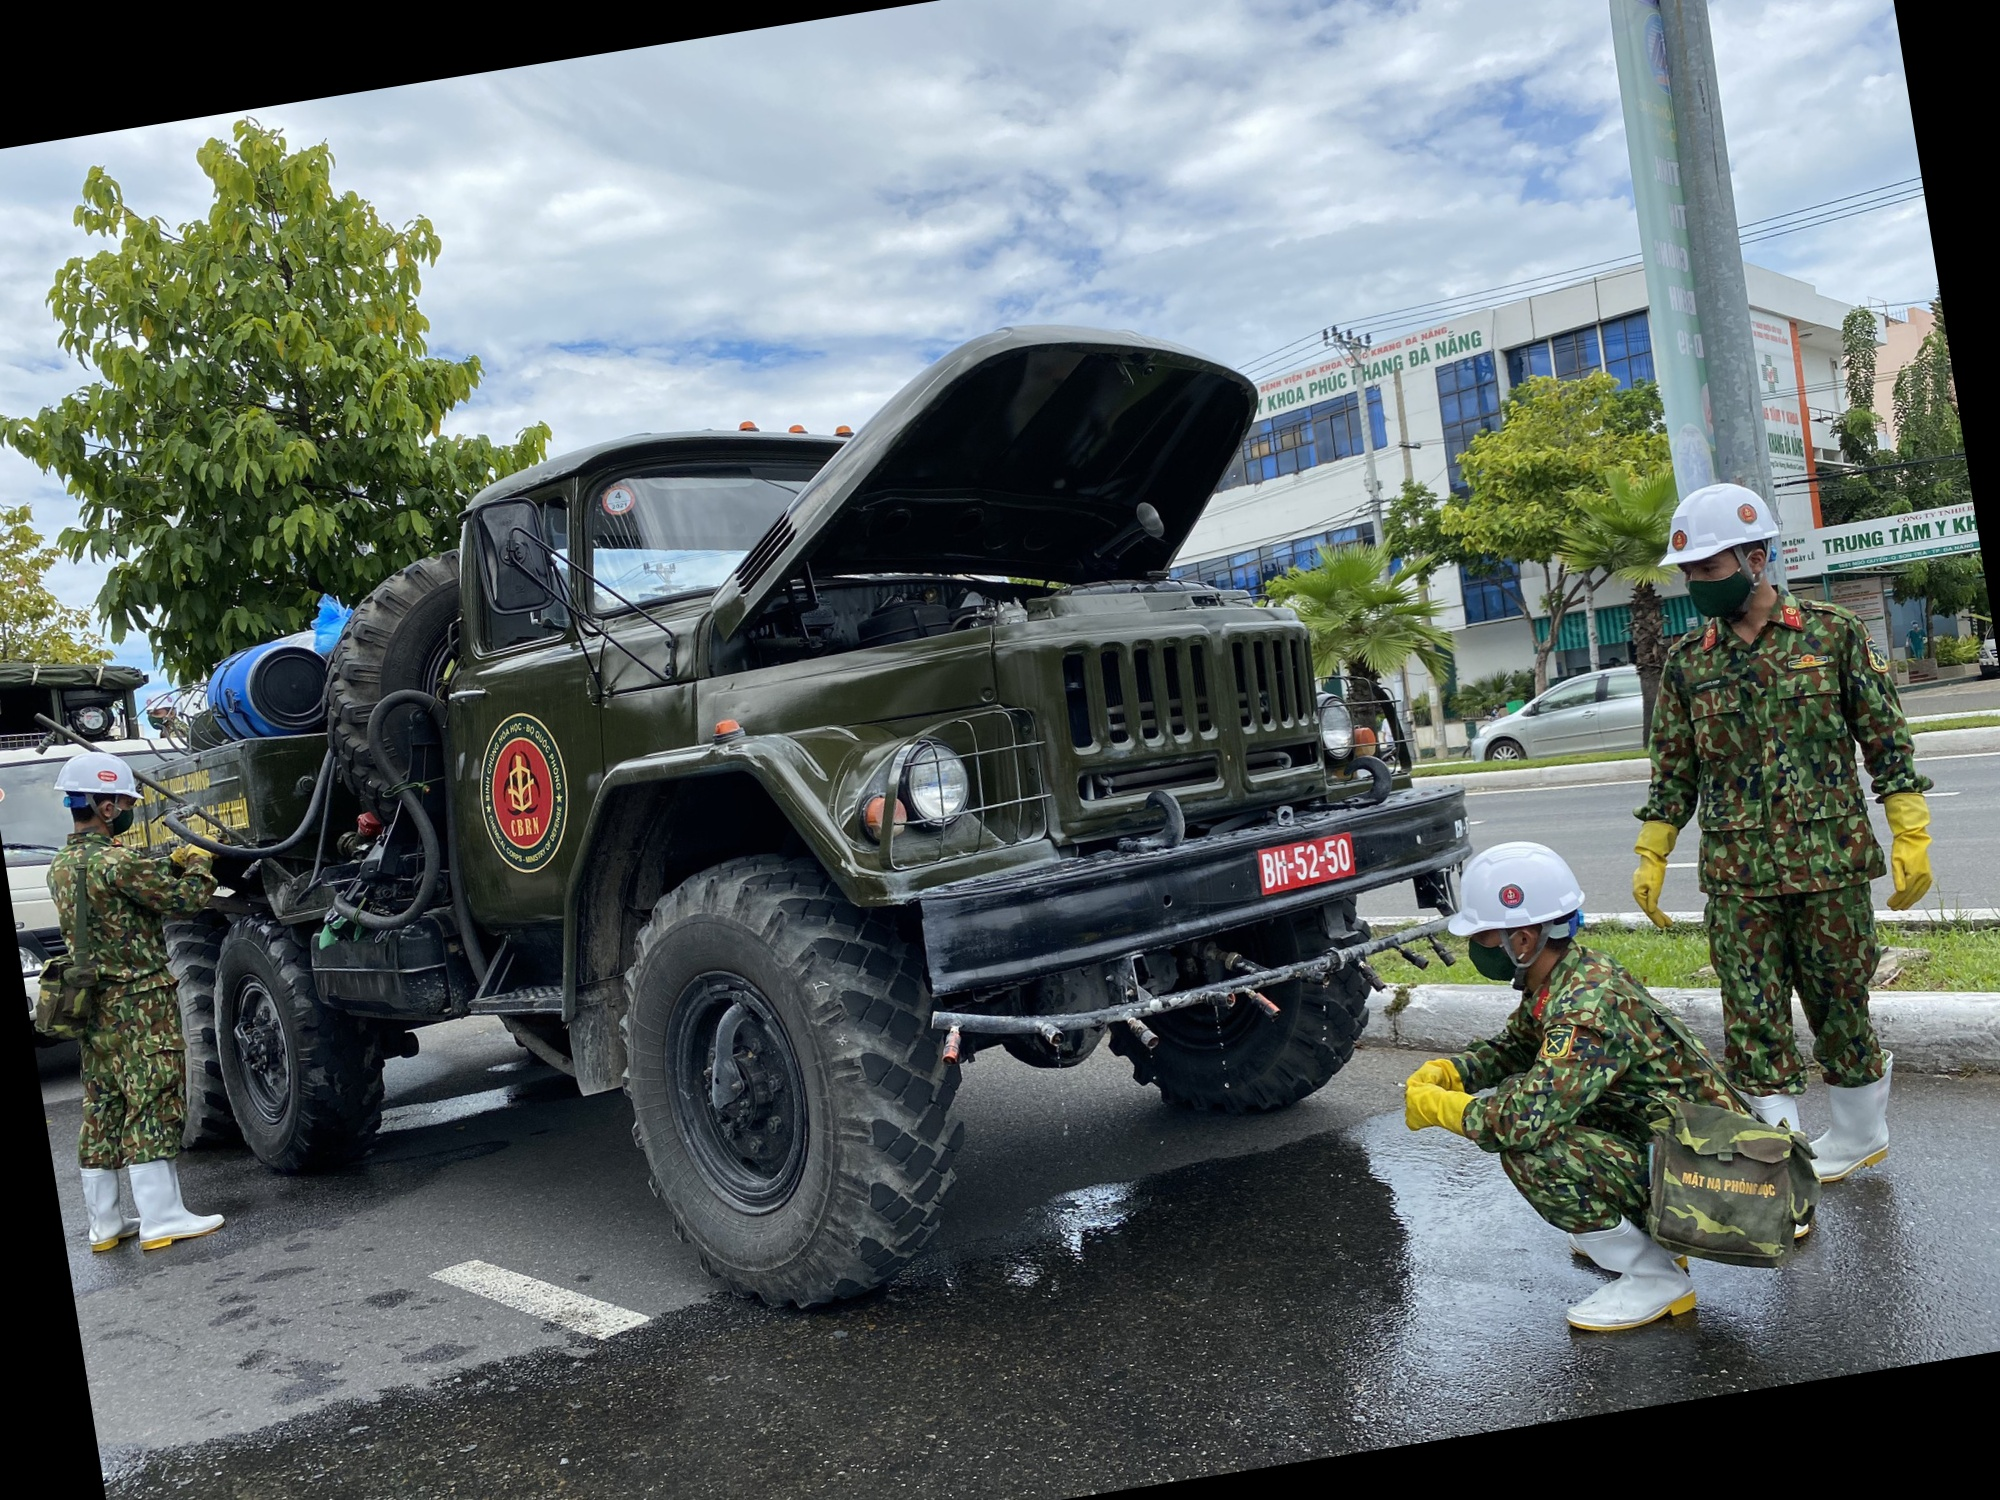plate: (1234, 818, 1371, 903)
